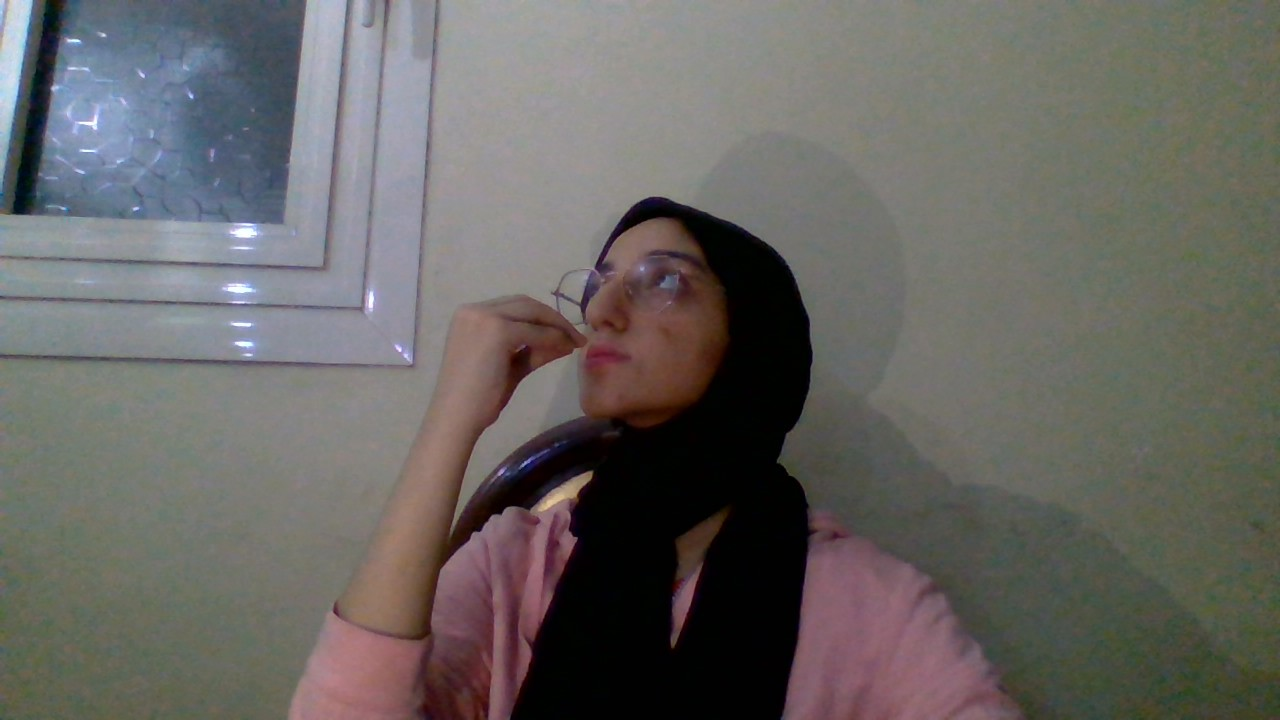eat: (369, 270, 633, 449)
